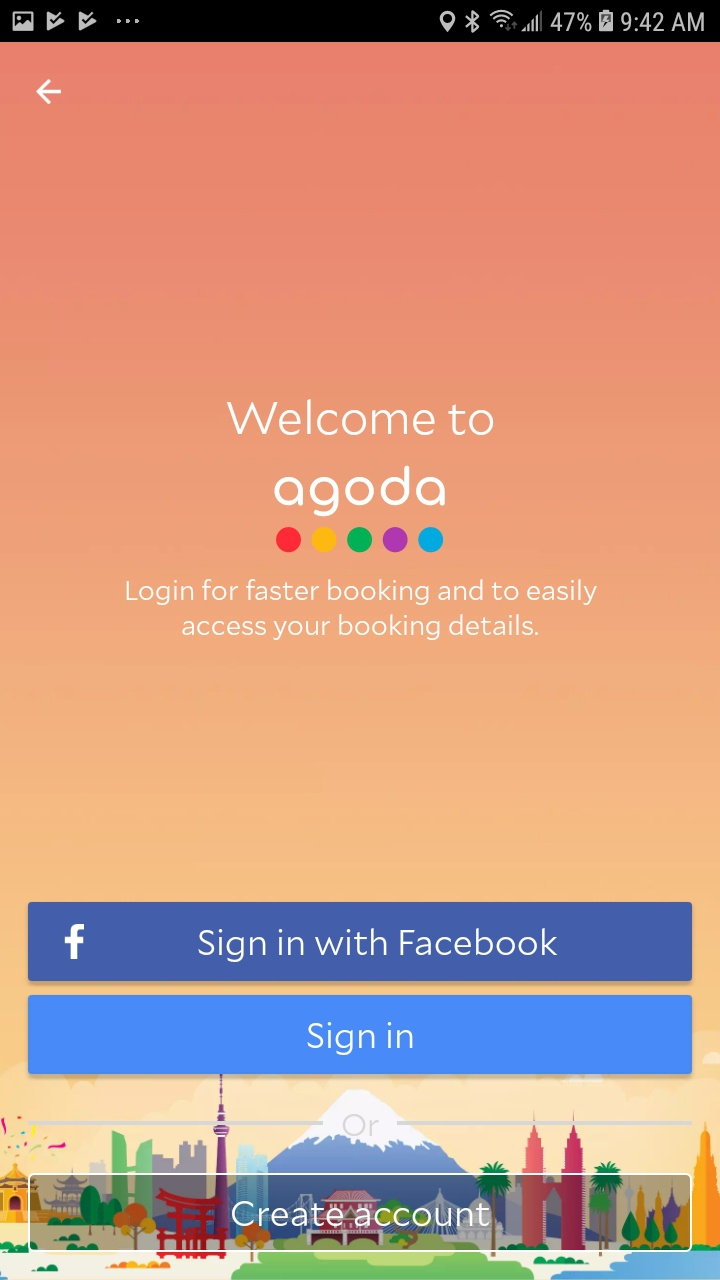BackgroundImage: (1, 43, 720, 1280)
Icon: (36, 79, 63, 106)
PageIndicator: (276, 526, 444, 554)
Text: (126, 578, 598, 641), (226, 399, 494, 439), (274, 465, 446, 518), (341, 1113, 379, 1137)
TextButton: (29, 1172, 693, 1253), (29, 902, 693, 982), (29, 995, 692, 1075)
UpperTaskBar: (1, 1, 720, 43)
